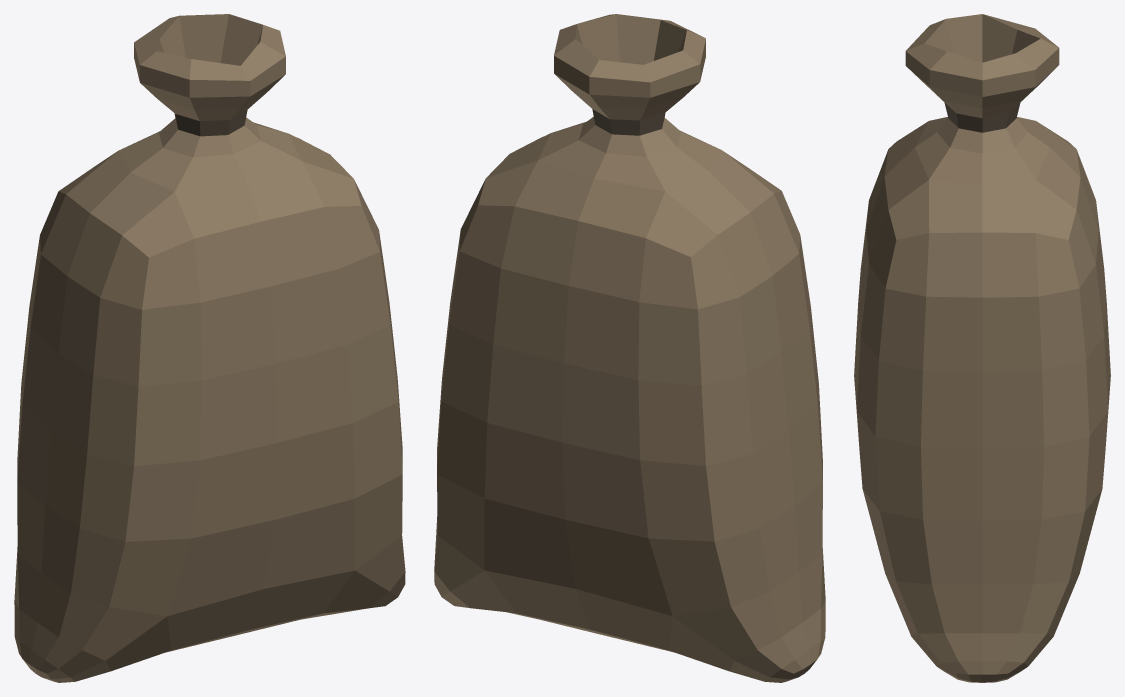
The model's file is SM_Props_Farm_GrainBag.fbx.
3 views of the same model, side by side, from view 1: azimuth 30°, elevation 25°; view 2: azimuth 150°, elevation 25°; view 3: azimuth 270°, elevation 25° (orthographic). The views are drawn at different scales.
Visible parts, largest first — view 1: SM_Props_Farm_GrainBag; view 2: SM_Props_Farm_GrainBag; view 3: SM_Props_Farm_GrainBag.
Part boxes in pixels (box(x1,y1,x2,y2)): SM_Props_Farm_GrainBag: box(14, 14, 405, 682); SM_Props_Farm_GrainBag: box(434, 14, 825, 682); SM_Props_Farm_GrainBag: box(854, 14, 1110, 682).
Bounding box in the file's own units: 95.75 × 152 × 61.99.
